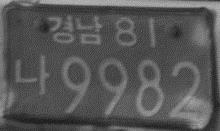1: (146, 16, 158, 50)
2: (167, 59, 204, 122)
8: (135, 58, 164, 119), (114, 14, 137, 48)
9: (96, 55, 129, 116), (61, 55, 92, 115)
경남_O: (46, 13, 103, 45)
나: (12, 53, 50, 97)
